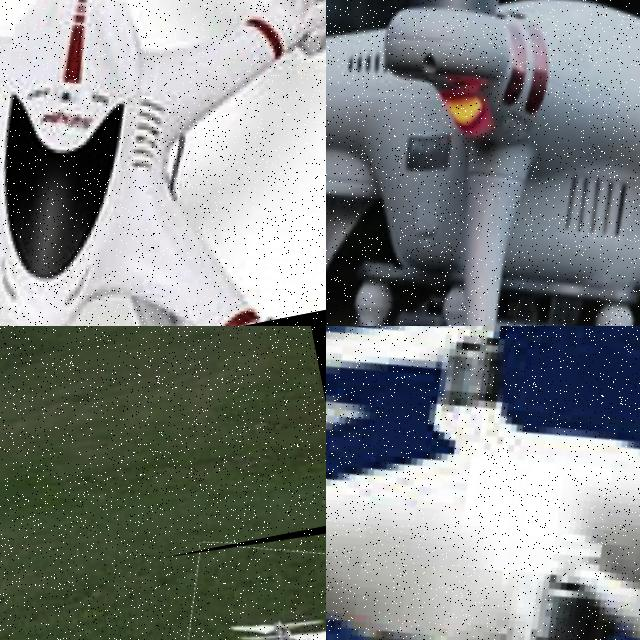drone: (0, 0, 326, 326), (326, 0, 640, 326), (326, 326, 640, 640), (162, 521, 326, 640)
